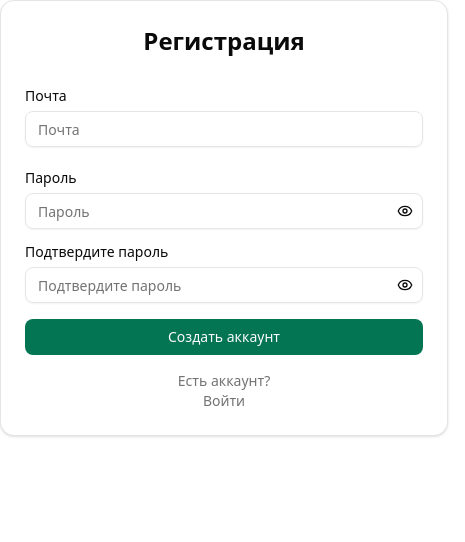
RegisterForm › should show validation errors on submit with empty fields
Click the button "Создать аккаунт" at (224, 337), box [25, 319, 423, 355]
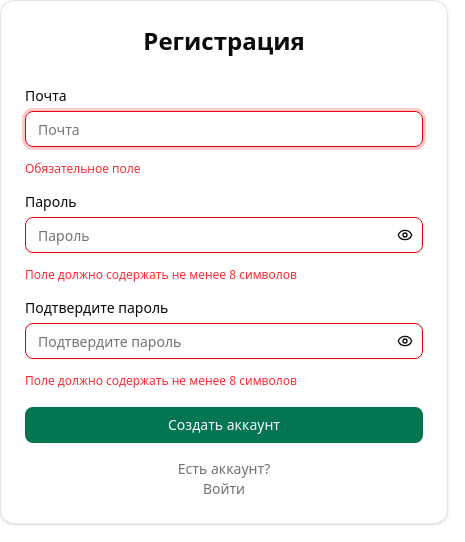
Expected: the text with test id "email_error" reads "Обязательное поле", [25, 160, 141, 177]
Expected: the text with test id "password_error" reads "Поле должно содержать не менее 8 символов", [25, 266, 297, 283]
Expected: the text with test id "confirmPassword_error" reads "Поле должно содержать не менее 8 символов", [25, 372, 297, 389]
